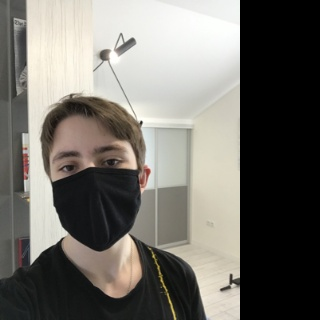with_mask: (49, 132, 145, 252)
